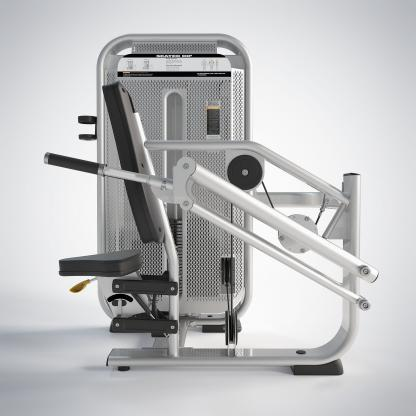seated dip machine: (44, 34, 380, 377)
